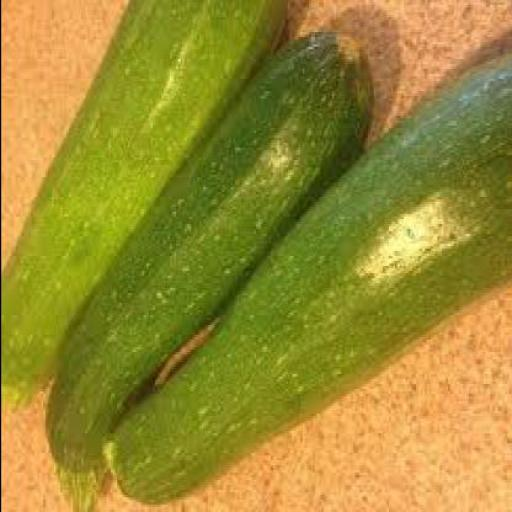biodegradable: (106, 46, 509, 500), (44, 27, 371, 510), (2, 0, 284, 410)
